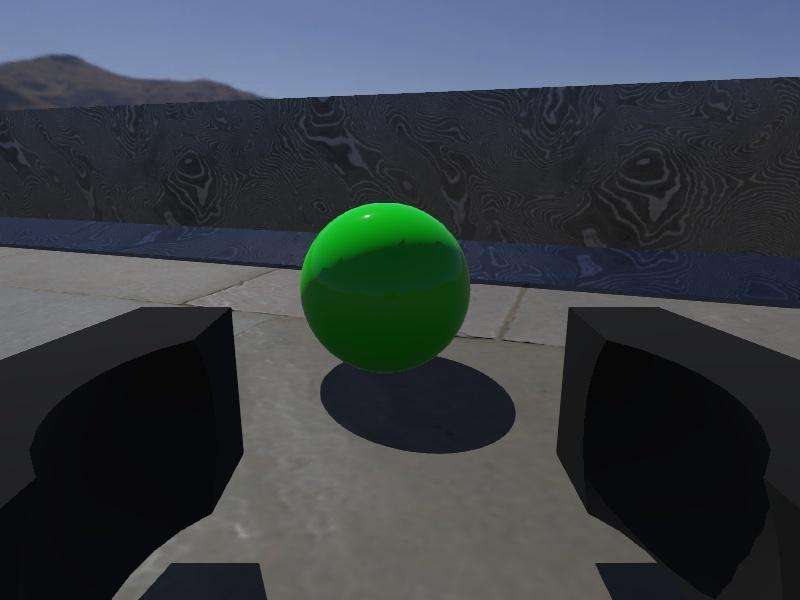green ball: (299, 200, 472, 373)
